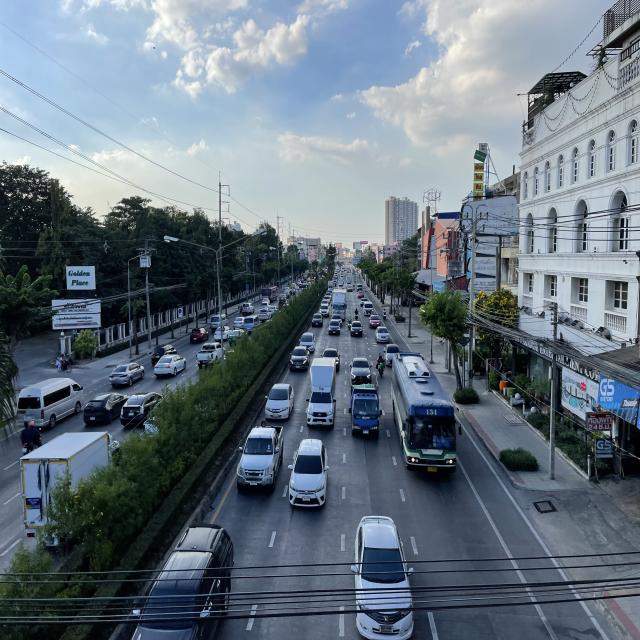bike: (377, 352, 386, 378), (382, 306, 387, 320), (354, 308, 359, 320), (348, 315, 352, 329)
bus: (390, 352, 462, 476)
car: (129, 522, 235, 640), (351, 513, 416, 640), (235, 424, 284, 492), (288, 438, 328, 509), (264, 384, 294, 419), (350, 357, 372, 385), (288, 346, 311, 372), (383, 342, 402, 367), (321, 348, 340, 372), (299, 332, 316, 354), (374, 325, 390, 344), (349, 320, 364, 338), (311, 312, 324, 329), (328, 320, 340, 336)
truck: (306, 358, 338, 429), (348, 384, 382, 440), (331, 289, 347, 322)
